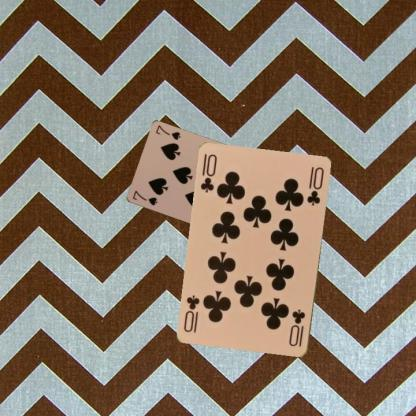10c: (198, 152, 219, 195), (286, 307, 306, 348)
7s: (130, 188, 158, 207)
